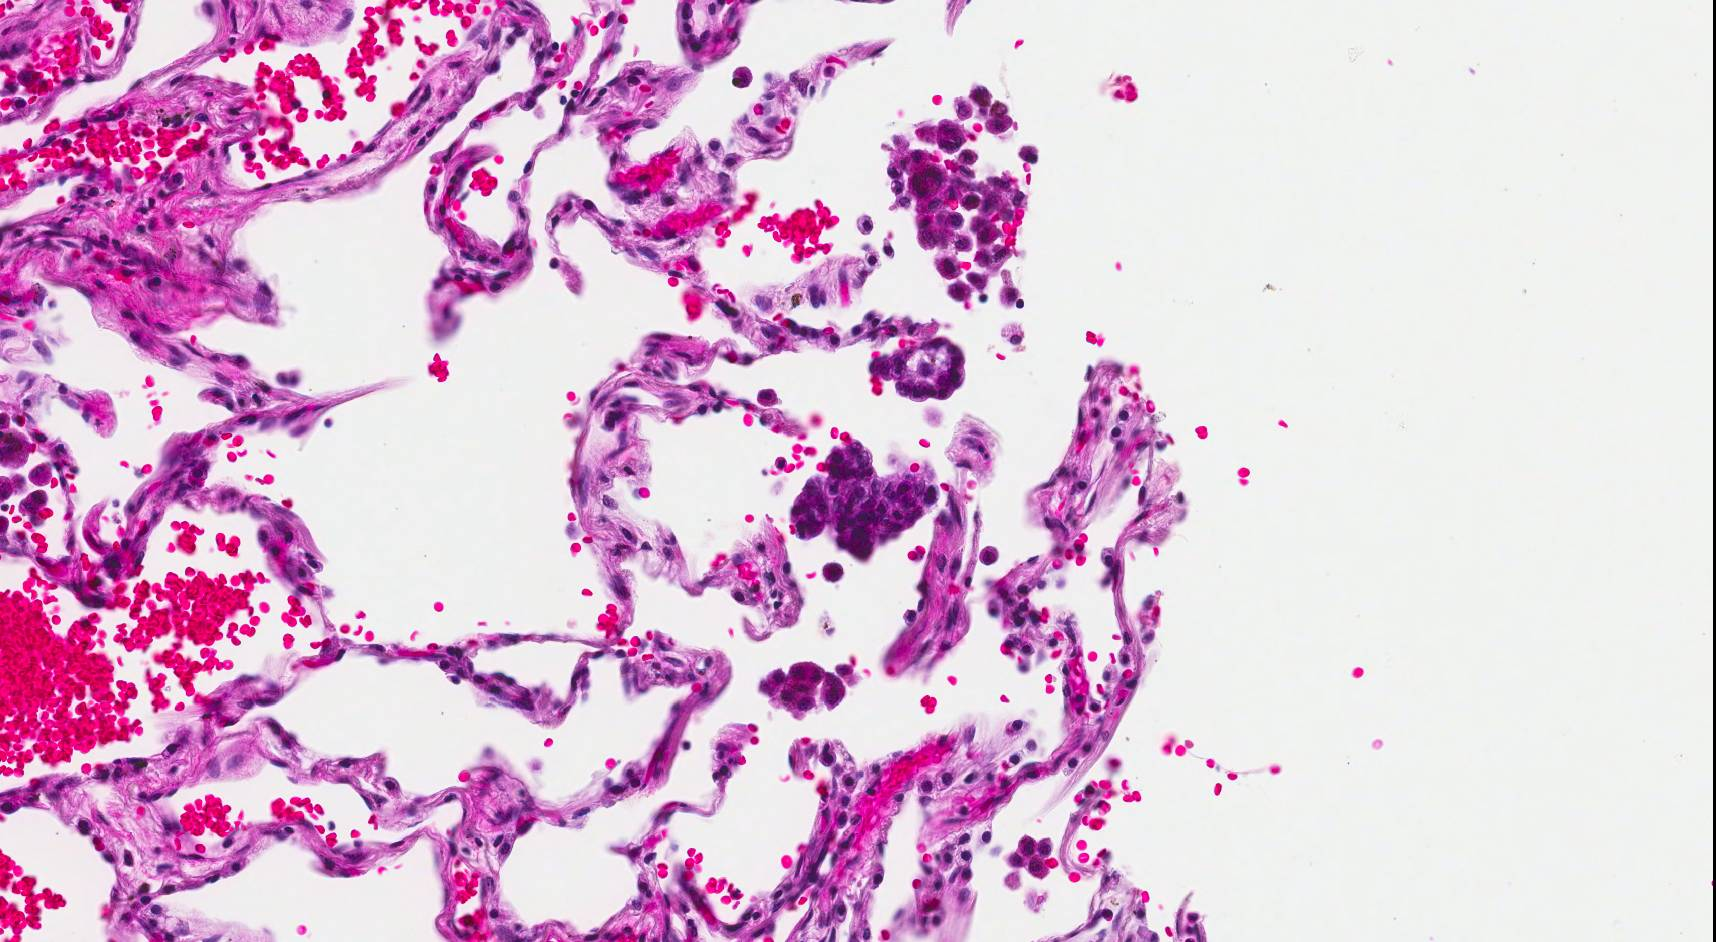stas: (789, 439, 938, 562), (865, 337, 977, 401)
